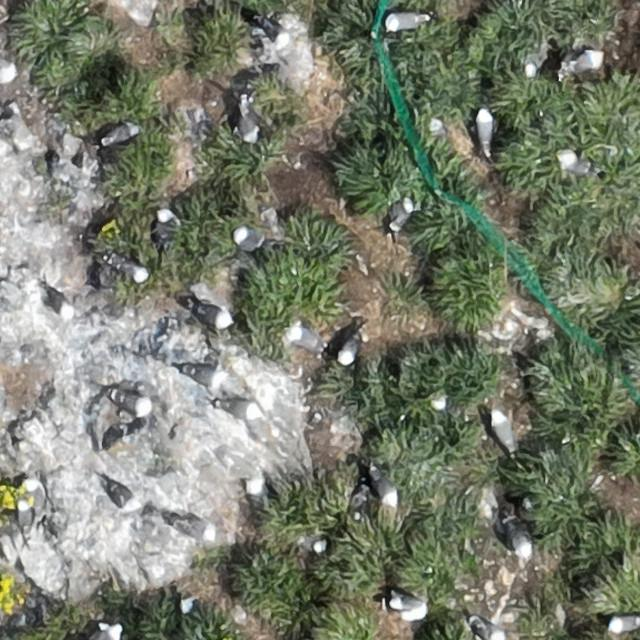umineko: (505, 522, 533, 558), (247, 480, 276, 514), (175, 517, 218, 539), (566, 51, 602, 73), (492, 414, 513, 451), (194, 304, 229, 326), (373, 473, 397, 505), (114, 260, 148, 282), (391, 596, 425, 618), (44, 289, 72, 315), (111, 392, 148, 411), (391, 198, 414, 228), (233, 227, 263, 250), (292, 328, 322, 351), (476, 110, 494, 148), (106, 482, 134, 506), (238, 109, 259, 141), (260, 20, 290, 42), (218, 399, 256, 416), (105, 124, 137, 144), (474, 620, 506, 640), (388, 13, 424, 30), (339, 335, 358, 365), (562, 156, 590, 175), (610, 615, 639, 633), (523, 49, 542, 76), (28, 481, 44, 511), (18, 500, 32, 532), (96, 623, 120, 640), (156, 209, 175, 227)
